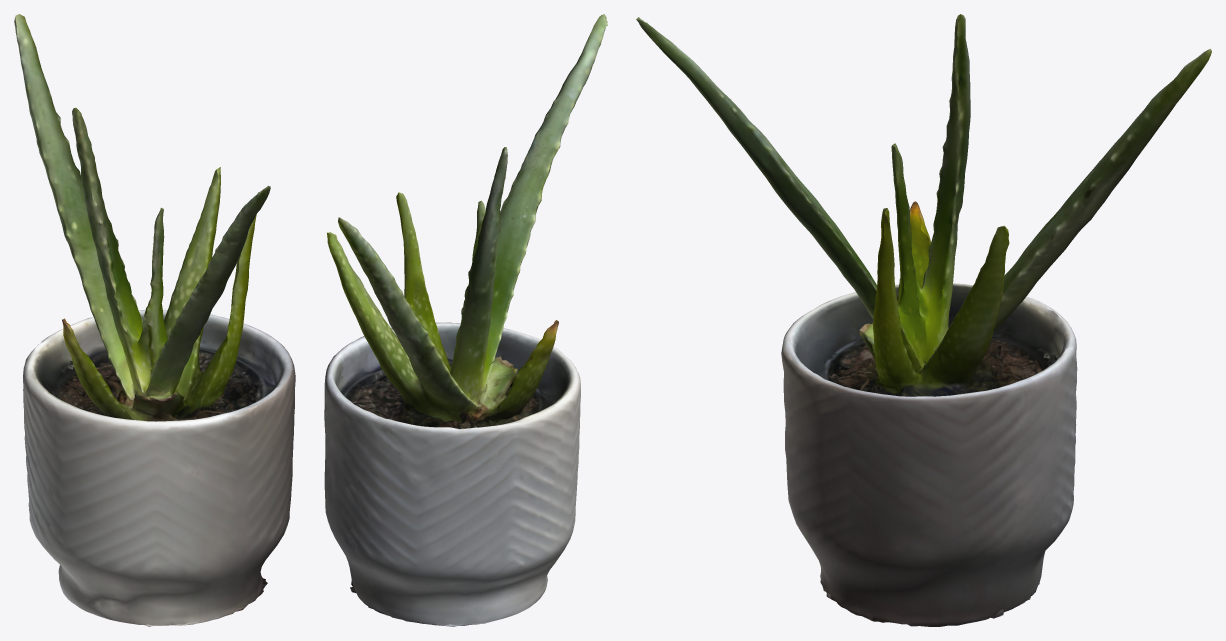
The model's file is aloe-vera.glb.
3 views of the same model, side by side, from view 1: azimuth 30°, elevation 25°; view 2: azimuth 150°, elevation 25°; view 3: azimuth 270°, elevation 25° (orthographic). The views are drawn at different scales.
Visible parts, largest first — view 1: Object_2; view 2: Object_2; view 3: Object_2.
Boxes of the visible parts, bbox=[...] form: Object_2: bbox=[14, 14, 295, 626]; Object_2: bbox=[324, 14, 607, 626]; Object_2: bbox=[636, 14, 1211, 626].
Size of the model in its own units: 0.129 by 0.2654 by 0.2531.
1 material, 1 textured.
